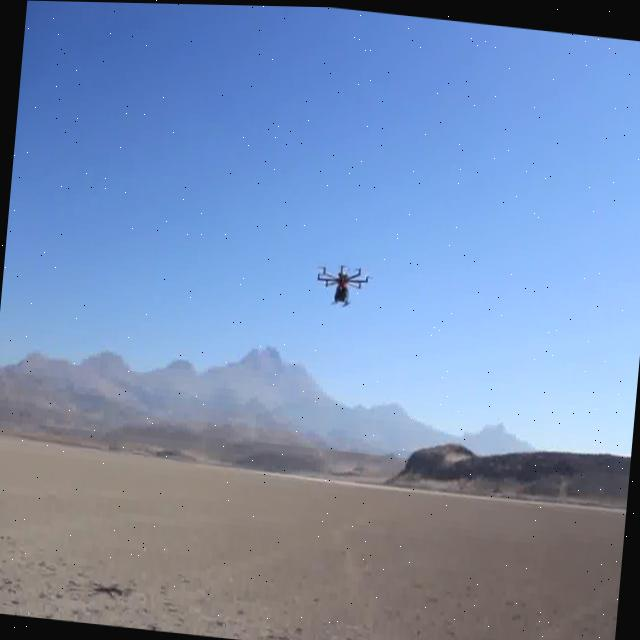drone: (0, 520, 618, 640)
